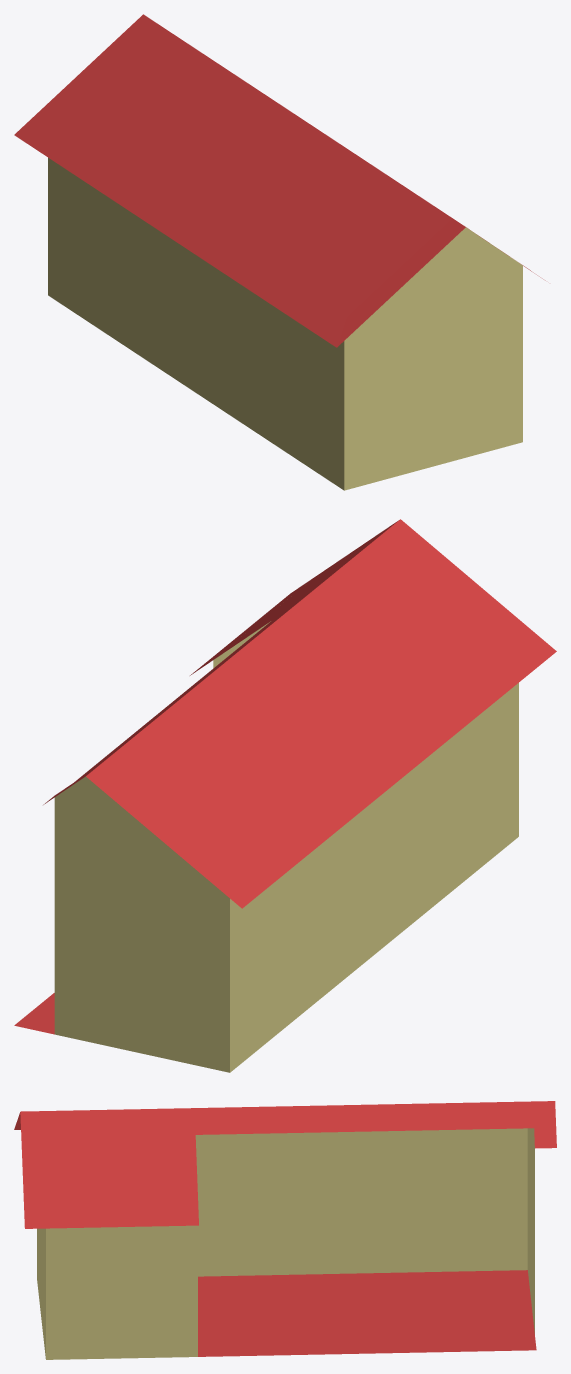
3 views of the same model, one above another, from view 1: azimuth 30°, elevation 25°; view 2: azimuth 150°, elevation 25°; view 3: azimuth 270°, elevation 25° (orthographic). The views are drawn at different scales.
Size of the model in its own units: 8.79 by 18.45 by 8.15.
